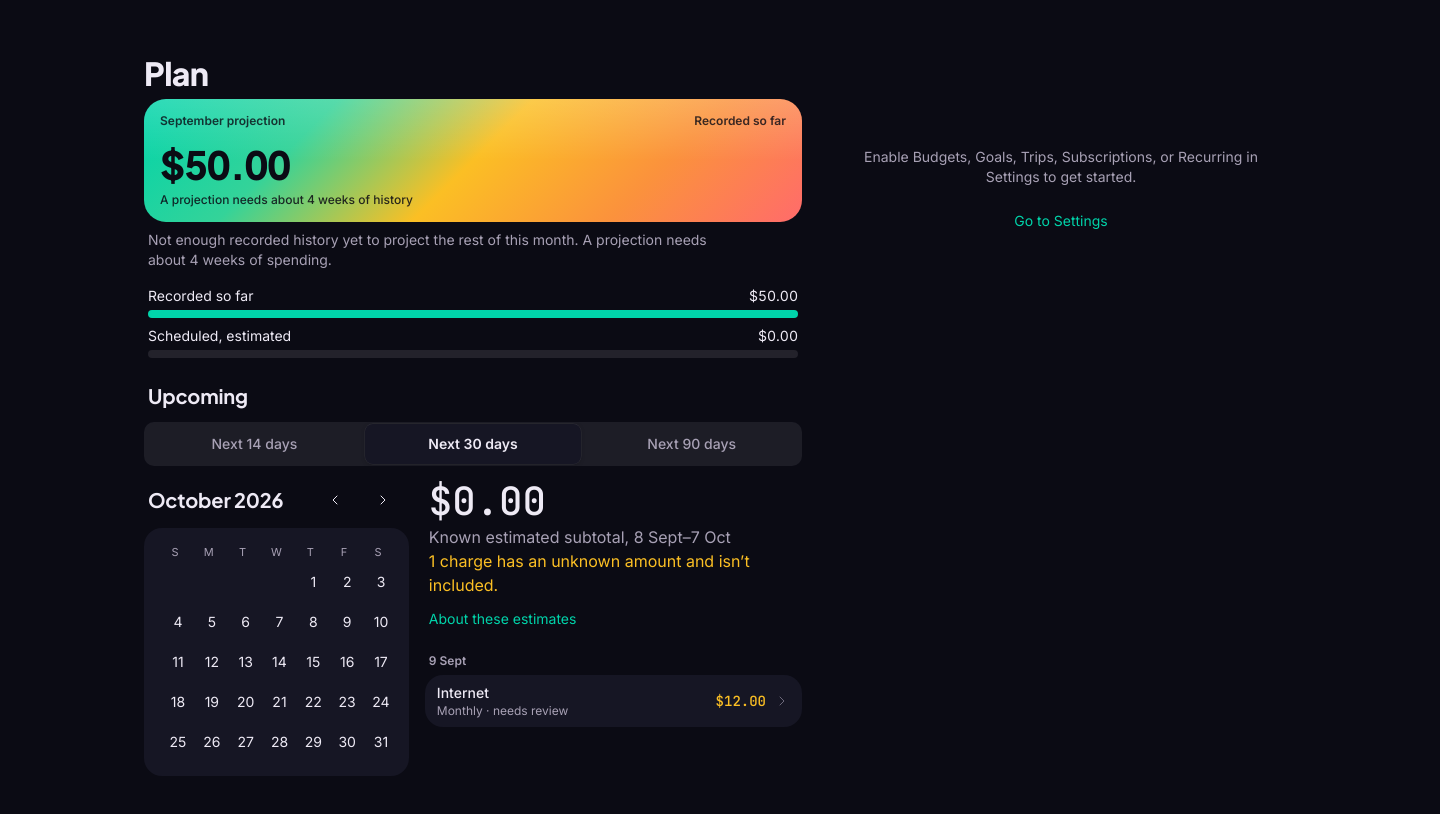
it: clearing an amount explicitly restores unknown and failed edits remain editable
This screenshot has width=1440, height=814.
Click the button "Internet Monthly · needs review $12.00" at (463, 692), box [425, 675, 802, 727]
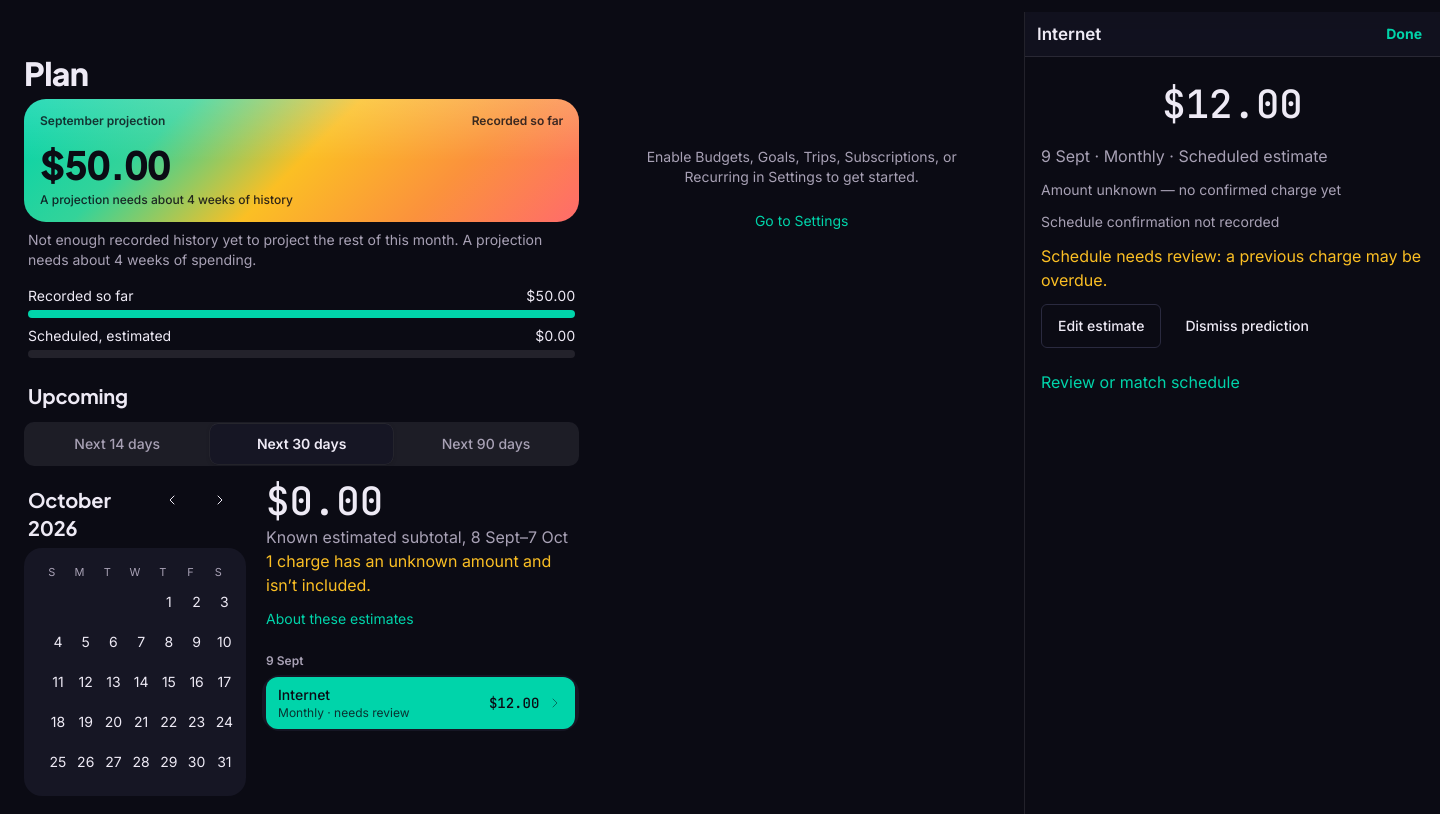
Click the button "Edit estimate" at (1101, 326), box [1041, 304, 1161, 348]
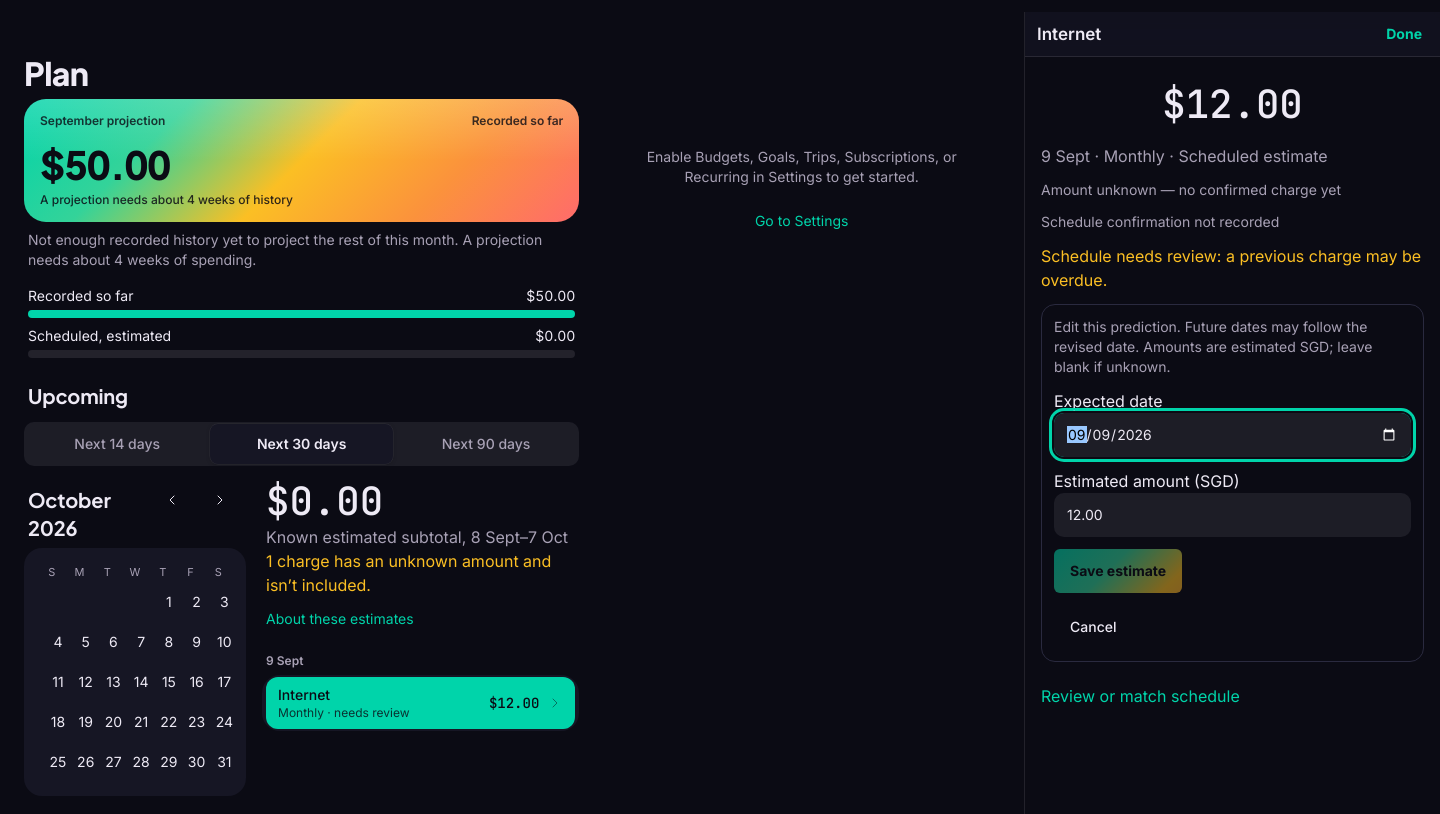
Clear the number field labelled "Estimated amount (SGD)" at (1232, 515), box [1054, 493, 1411, 537]
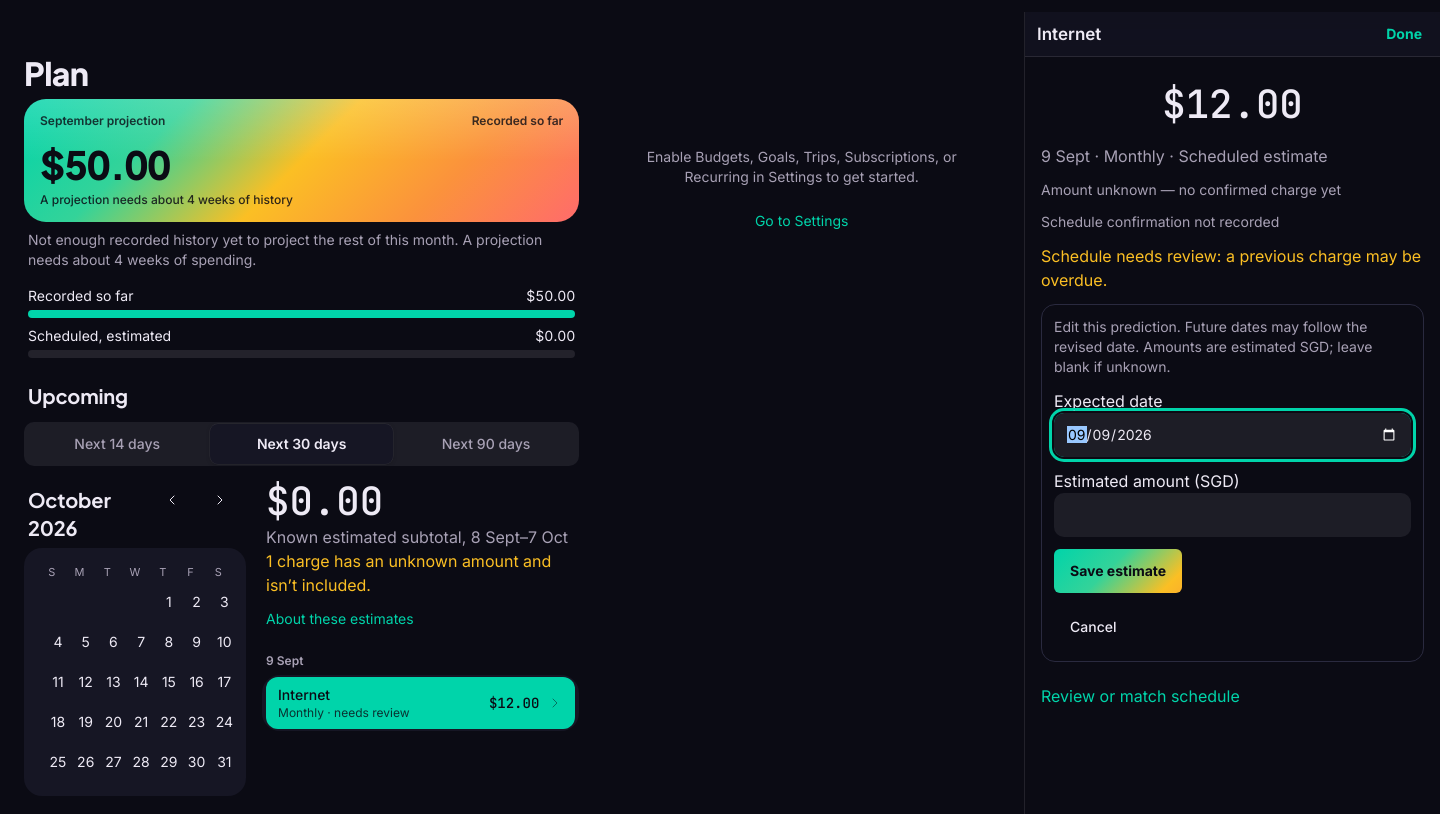
Click the button "Save estimate" at (1118, 571), box [1054, 549, 1182, 593]
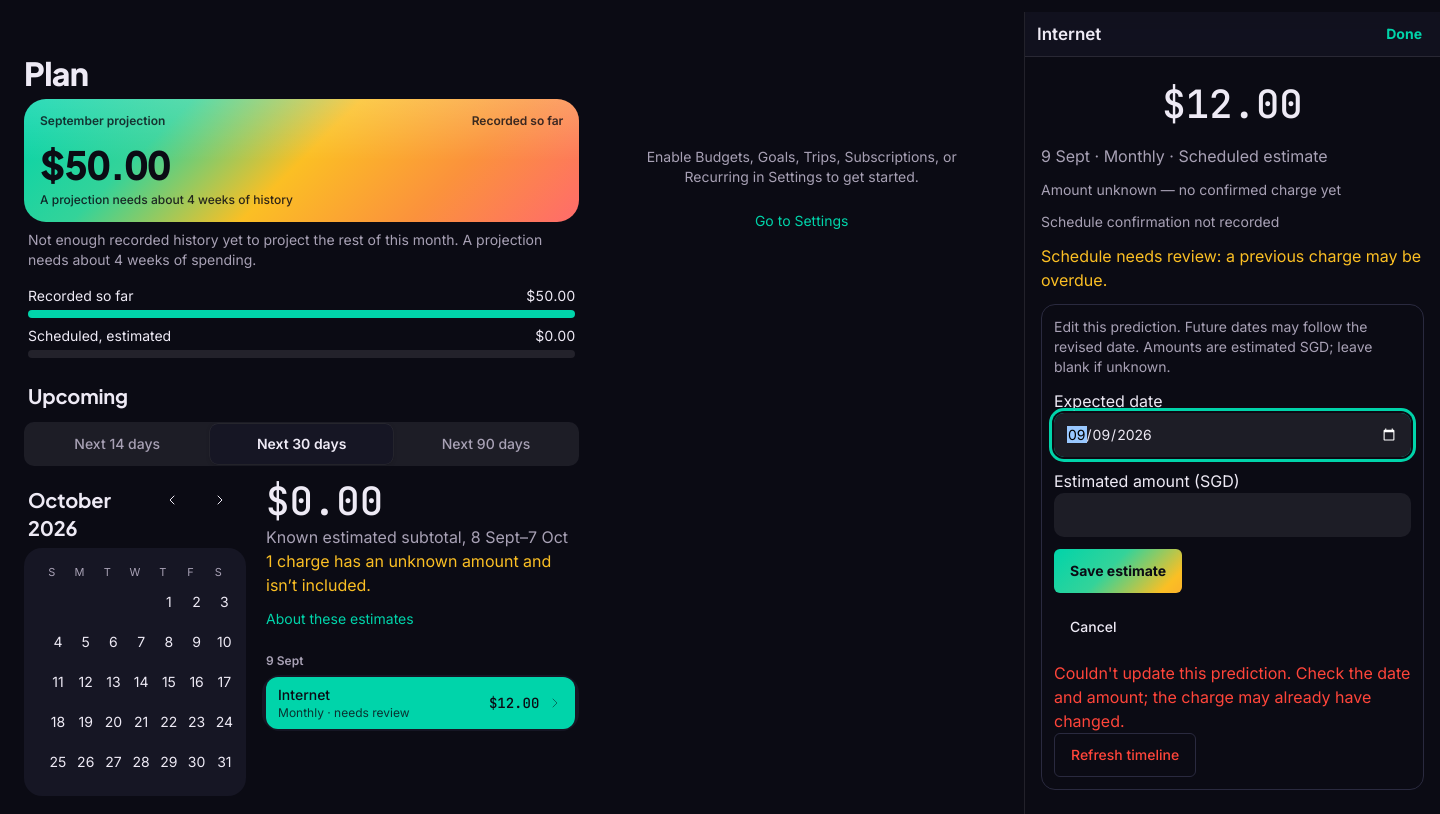
Now the button "Save estimate" is shown, box [1054, 549, 1182, 593]
Now the message is shown, box [1054, 661, 1411, 777]
Now the button "Refresh timeline" is shown, box [1054, 733, 1196, 777]
